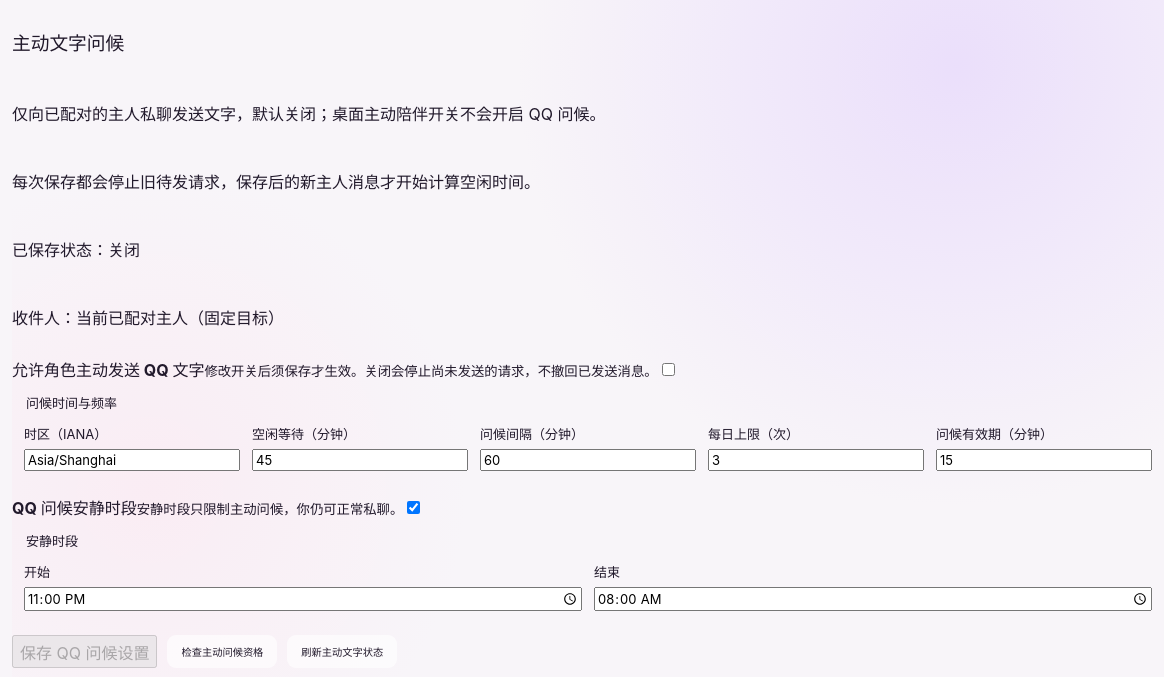
Scenario: QQ proactive operator panel › checks saved eligibility without updating policy or creating a request
Check: the switch labelled "允许角色主动发送 QQ 文字" is enabled, box [662,363,675,376]
Click the button "检查主动问候资格": [222, 652] box [168,635,277,668]
(page scrolled)
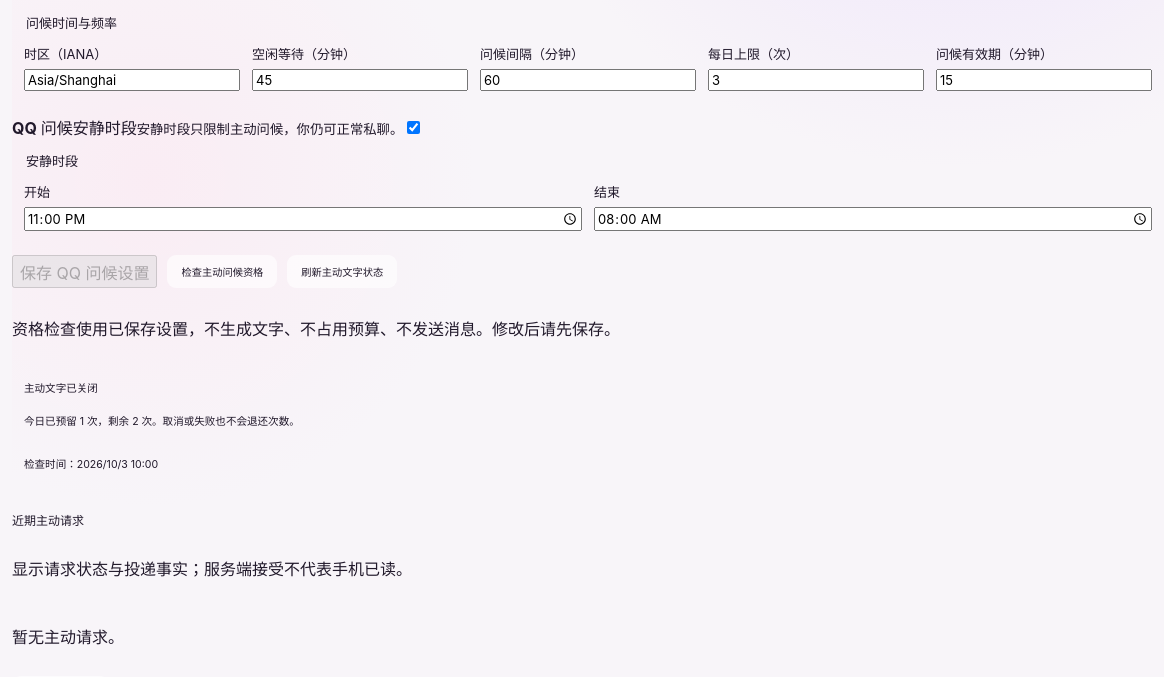
Check: the text "主动文字已关闭" is shown, box [24,382,98,395]
Check: the text "今日已预留 1 次，剩余 2 次。取消或失败也不会退还次数。" is shown, box [24,415,300,428]
